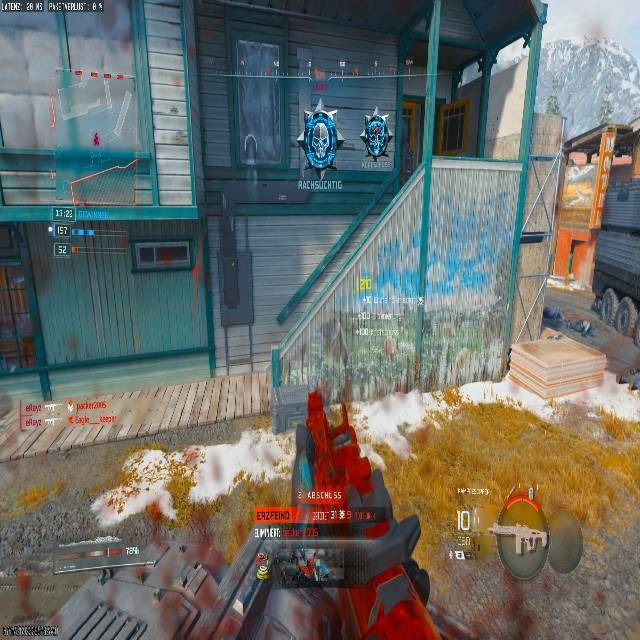player: (303, 106, 342, 185), (360, 114, 392, 160)
